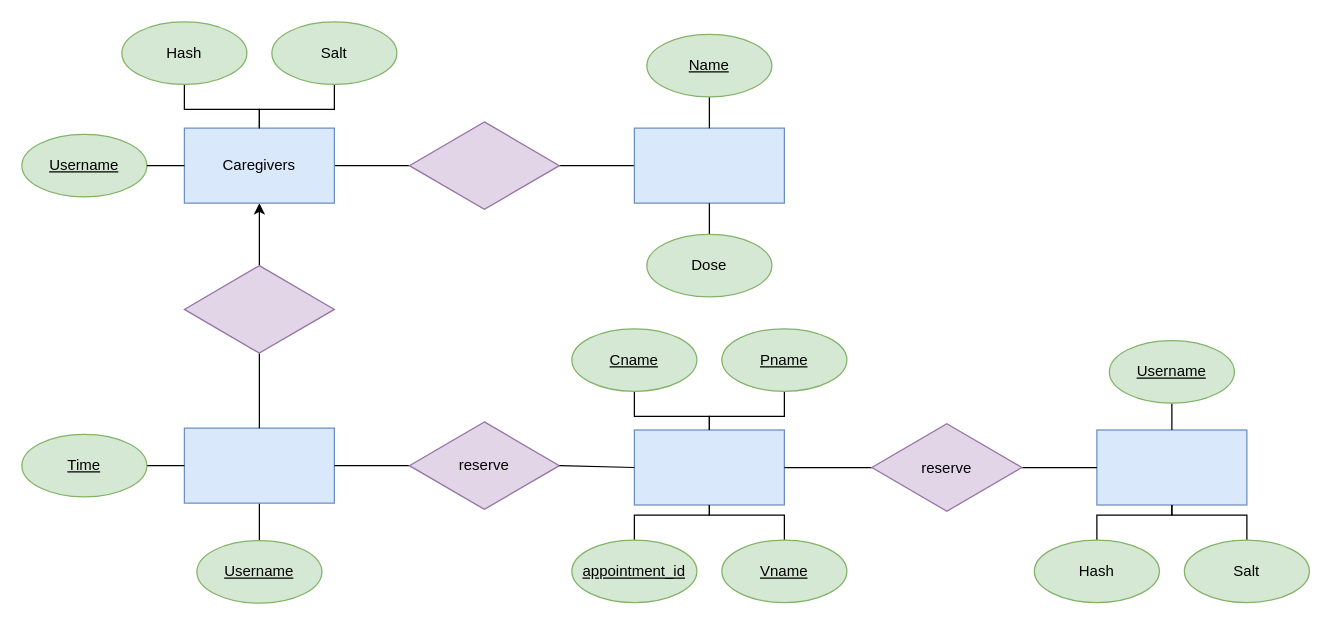
The diagram is 1331 pixels wide and 625 high, and some of its shapes have lost their labels. Each missing label, with the centre of its shape:
"Availabilities" goes at point (258, 465).
"have" goes at point (258, 308).
"Patients" goes at point (1171, 467).
"Schedules" goes at point (708, 467).
"track" goes at point (483, 165).
"Vaccines" goes at point (708, 165).
